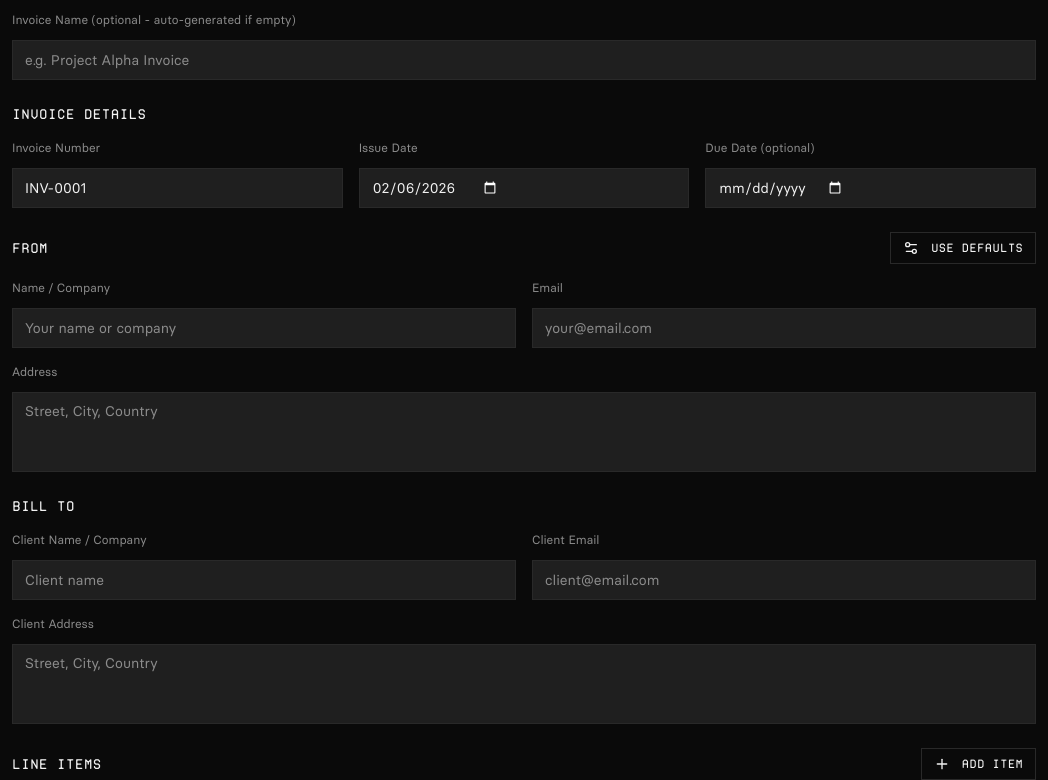
InvoiceForm › applies defaults when "Use Defaults" is clicked
The width and height of the screenshot is (1048, 780).
Click the button "Use Defaults" at (963, 248), box [890,232,1036,264]
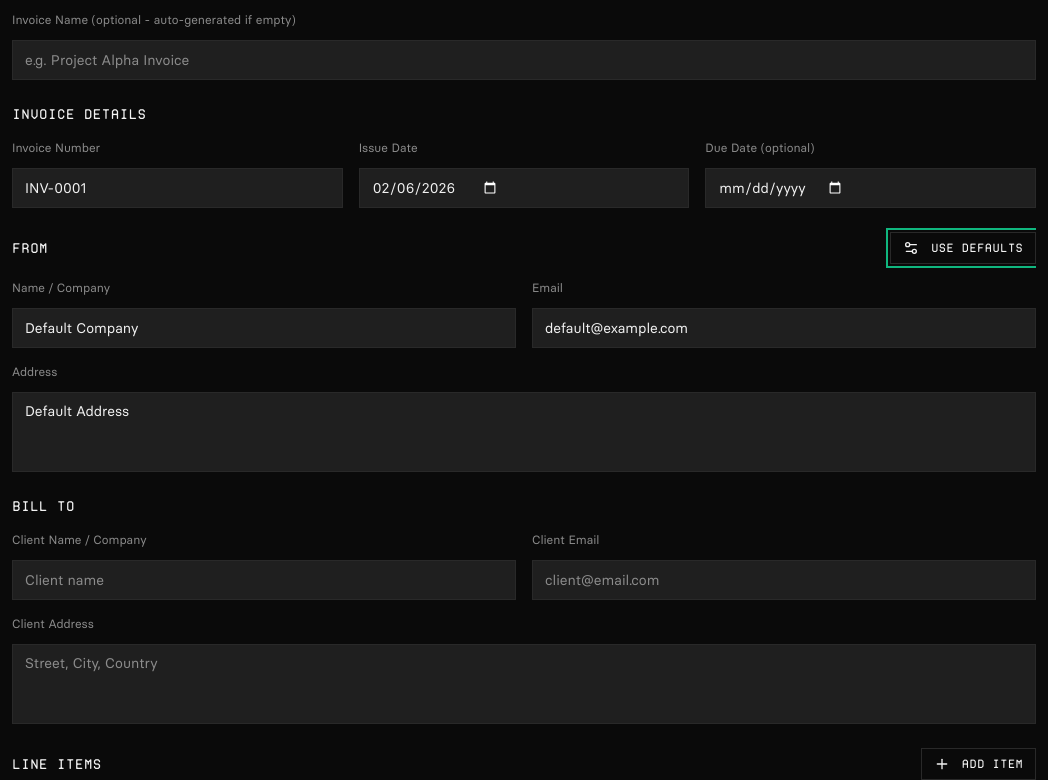
Check: the field showing "Default Company" is shown, box [12,308,516,348]
Check: the field showing "default@example.com" is shown, box [532,308,1036,348]
Check: the text box showing "Default Address" is shown, box [12,392,1036,472]
